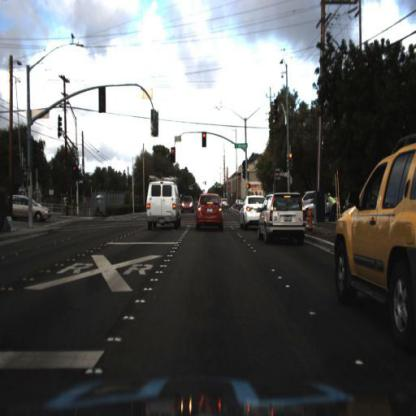car: (329, 142, 416, 330), (256, 190, 308, 242), (6, 184, 51, 228), (146, 178, 179, 229), (8, 189, 54, 225), (193, 192, 227, 234), (240, 195, 267, 230), (238, 193, 258, 230), (180, 190, 196, 217), (302, 202, 319, 222), (302, 188, 317, 202), (182, 195, 193, 212)
pedestrian: (326, 188, 339, 226), (327, 192, 339, 226)
trafficLight: (170, 147, 176, 163)
trafficLight-Red: (286, 151, 296, 175), (286, 150, 295, 168), (202, 129, 207, 151), (247, 164, 252, 182)
trafficLight-RedLeft: (70, 162, 80, 185)
